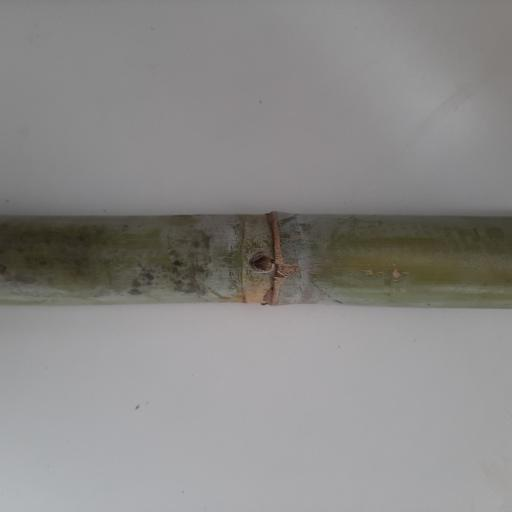Bud: (249, 253, 273, 274)
